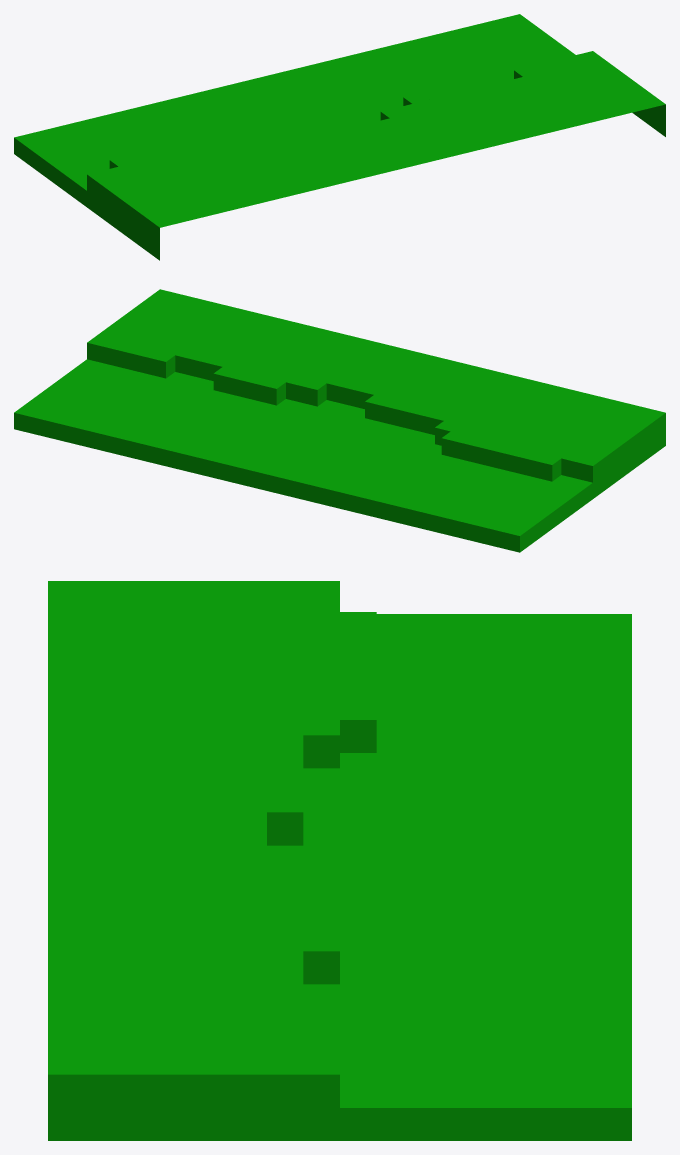
File: Straight15.fbx
3 renders of one model, top to bottom at view 1: azimuth 30°, elevation 25°; view 2: azimuth 150°, elevation 25°; view 3: azimuth 270°, elevation 25°, orthographic. The views are drawn at different scales.
Visible parts, largest first — view 1: Matrix; view 2: Matrix; view 3: Matrix.
Boxes of the visible parts, x1,y1,x2,y2 form: Matrix: [14, 14, 665, 260]; Matrix: [14, 289, 665, 552]; Matrix: [48, 581, 631, 1140].
Bounding box in the file's own units: 32 × 2 × 16.
Materials: 1 (1 with a texture image).
